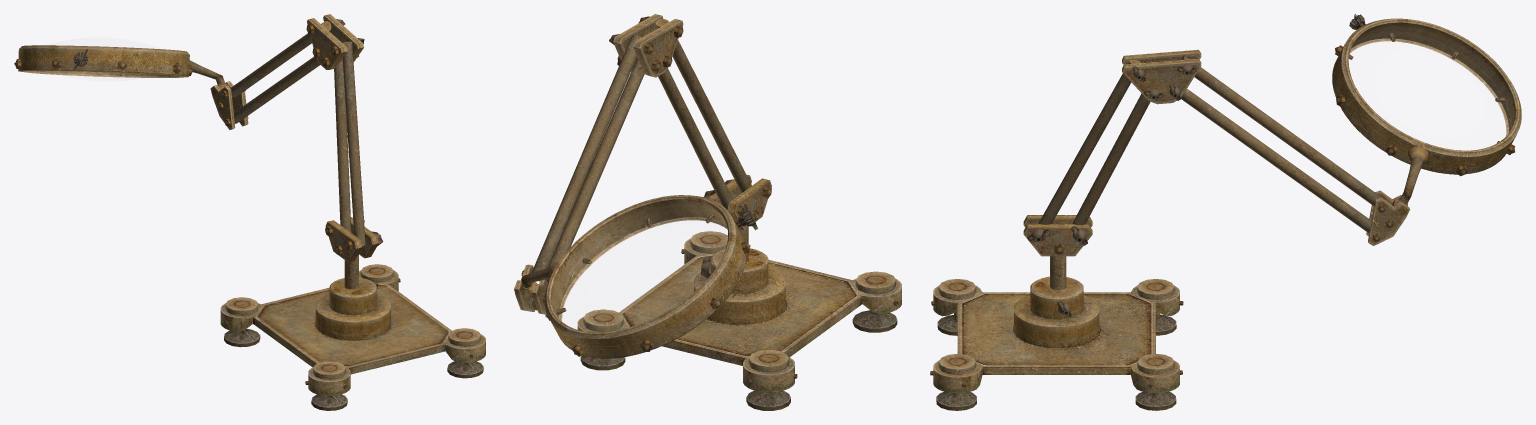
The model's file is magnifier-stand.glb.
3 renders of one model, left to right at view 1: azimuth 30°, elevation 25°; view 2: azimuth 150°, elevation 25°; view 3: azimuth 270°, elevation 25°, orthographic. The views are drawn at different scales.
Parts seen in each view (by area): view 1: magnifier-stand; view 2: magnifier-stand; view 3: magnifier-stand.
Part boxes in pixels (left/top/right/bottom): magnifier-stand: left=14, top=14, right=485, bottom=410; magnifier-stand: left=514, top=14, right=901, bottom=410; magnifier-stand: left=930, top=14, right=1521, bottom=410.
Size of the model in its own units: 0.4078 by 0.4458 by 0.7371.
2 materials, 1 textured.
